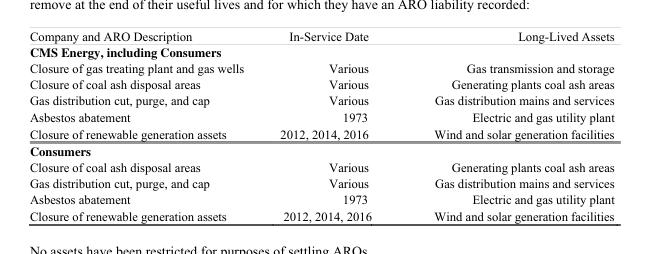table: (28, 28, 613, 222)
table column: (28, 28, 261, 222), (402, 28, 613, 222), (261, 28, 402, 222)
table column header: (28, 28, 613, 42)
table projected row header: (28, 140, 613, 159), (28, 42, 613, 60)
table row: (28, 140, 613, 159), (28, 42, 613, 60), (28, 190, 613, 207), (28, 60, 613, 76), (28, 76, 613, 92), (28, 92, 613, 108), (28, 108, 613, 124), (28, 124, 613, 140), (28, 174, 613, 190), (28, 159, 613, 174), (28, 207, 613, 222), (28, 28, 613, 42)
